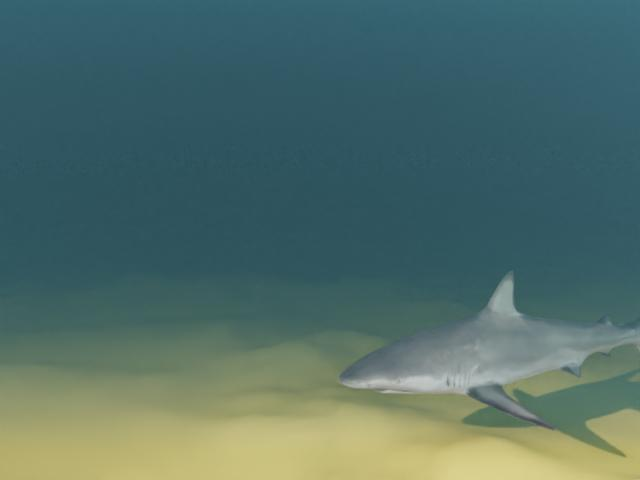Carribean Shark.001: (337, 258, 640, 430)
